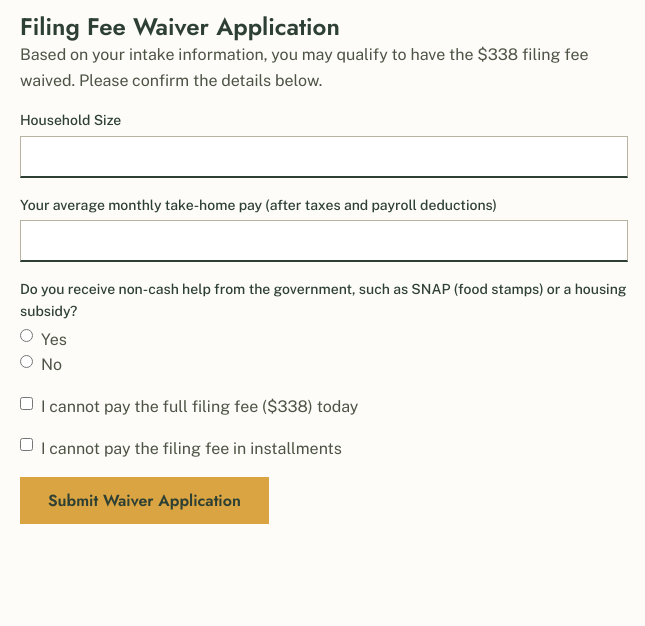
Test: FeeWaiverPage › asks about non-cash help with neither answer picked, and only Yes asks what kind
Expected: the radio button labelled "No" is not checked, [20,355,33,368]
Expected: the field labelled "What kind?" is not shown
Step 1. Click the radio button labelled "Yes" → click(26, 336), box [20,329,33,342]
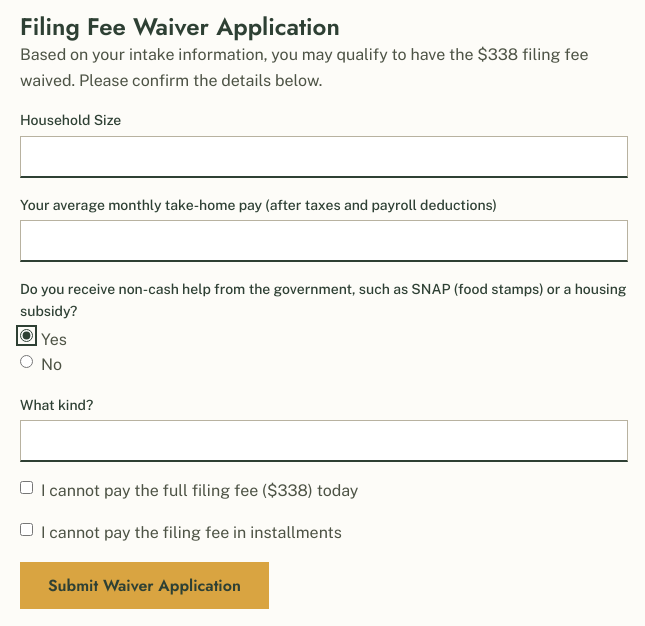
Expected: the field labelled "What kind?" is shown, [20,420,628,462]
Step 2. Click the radio button labelled "No" → click(26, 362), box [20,355,33,368]
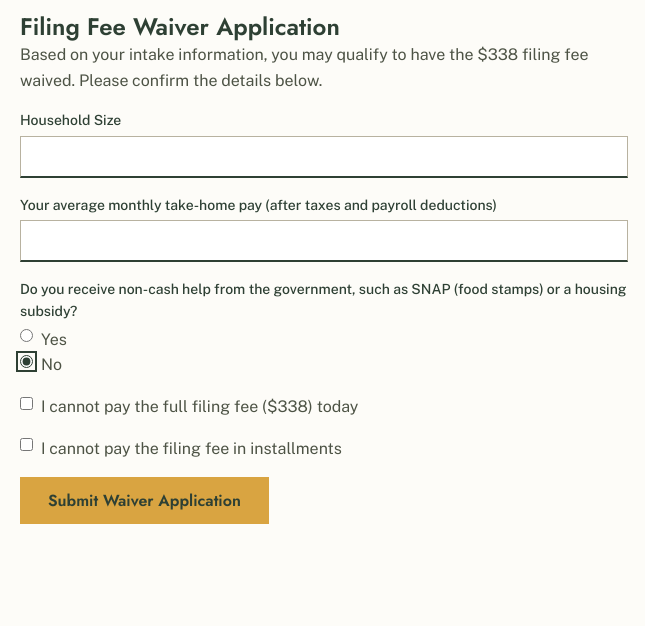
Expected: the label labelled "What kind?" is gone
